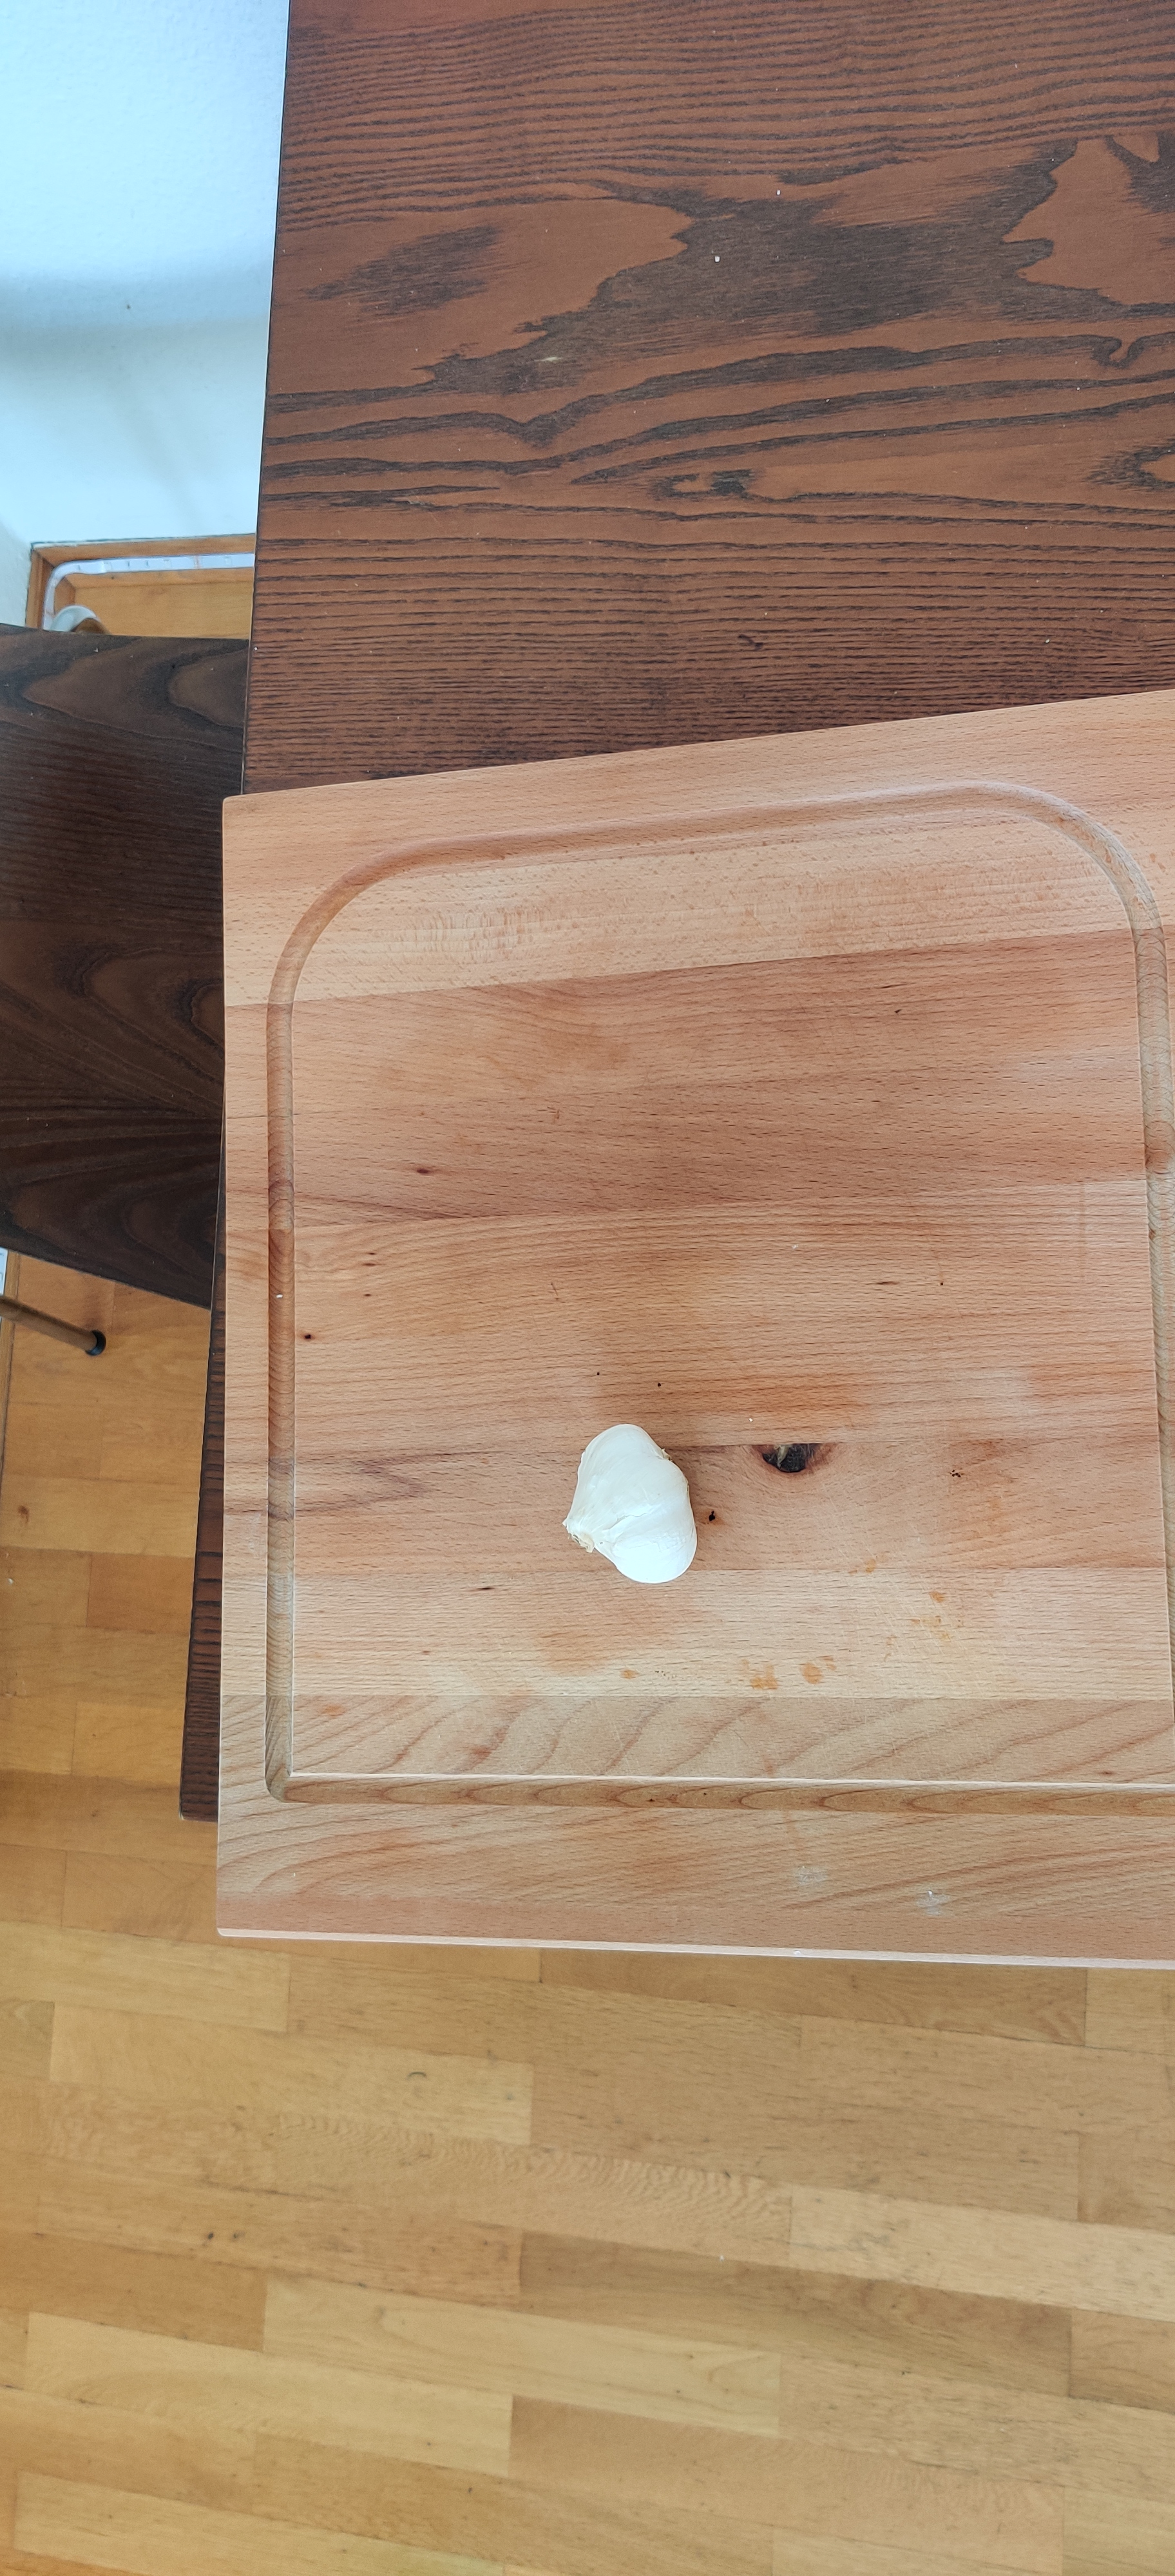Knoblauch: (564, 1424, 700, 1585)
